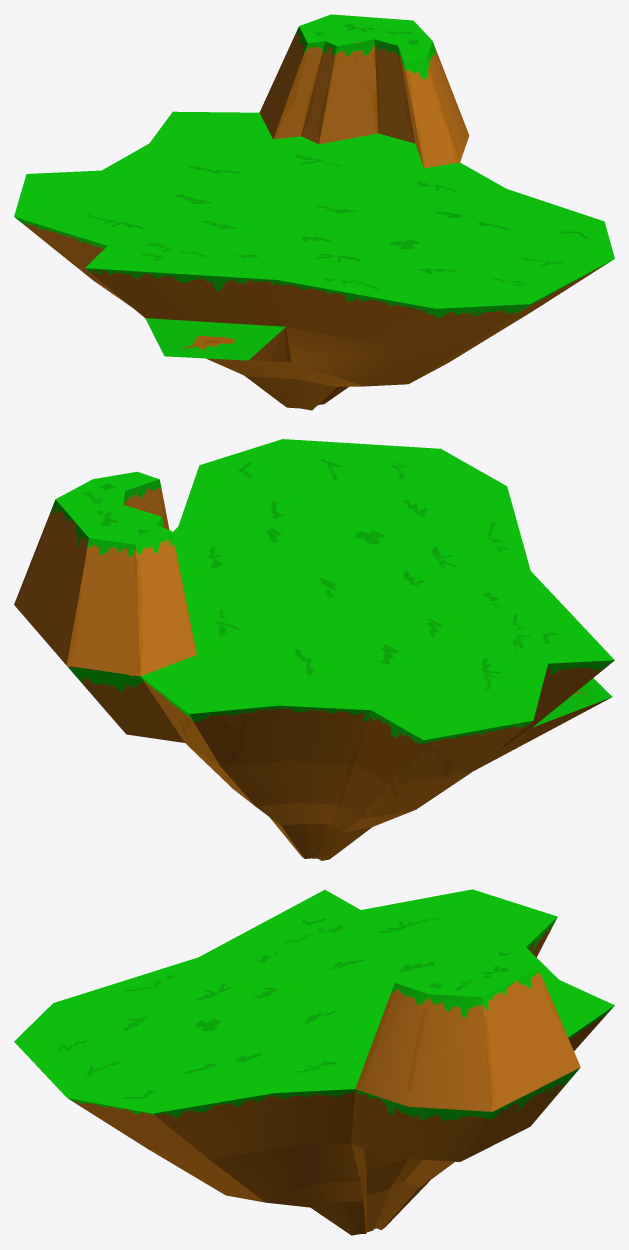
The model's file is Island2.fbx.
3 renders of one model, top to bottom at view 1: azimuth 30°, elevation 25°; view 2: azimuth 150°, elevation 25°; view 3: azimuth 270°, elevation 25°, orthographic. The views are drawn at different scales.
Visible parts, largest first — view 1: Line031; view 2: Line031; view 3: Line031.
Boxes of the visible parts, x1,y1,x2,y2 form: Line031: [14, 14, 614, 410]; Line031: [14, 439, 614, 860]; Line031: [14, 889, 614, 1235].
Bounding box in the file's own units: 158 × 104 × 179.
